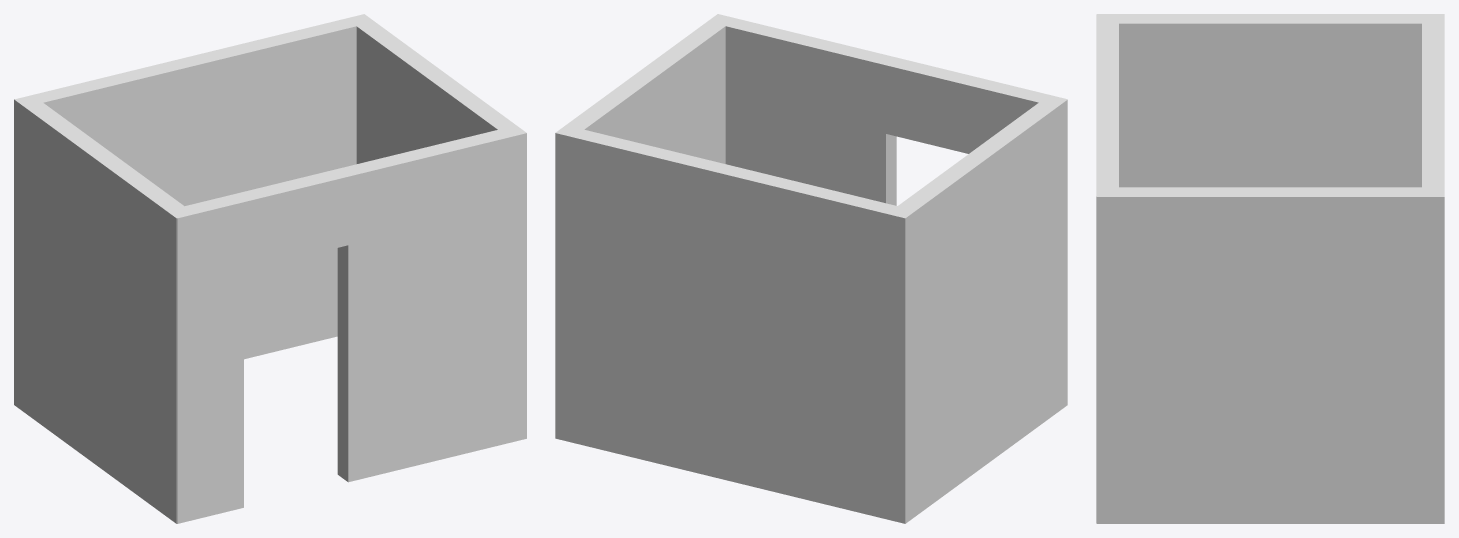
Rendered from Wall 2.FBX.
3 views of the same model, side by side, from view 1: azimuth 30°, elevation 25°; view 2: azimuth 150°, elevation 25°; view 3: azimuth 270°, elevation 25° (orthographic). The views are drawn at different scales.
Visible parts, largest first — view 1: wall 2; view 2: wall 2; view 3: wall 2.
Boxes of the visible parts, box(x1,y1,x2,y2) form: wall 2: box(14, 14, 526, 523); wall 2: box(555, 14, 1067, 523); wall 2: box(1096, 14, 1444, 523).
Size of the model in its own units: 325 by 271 by 261.
1 material, 1 textured.
